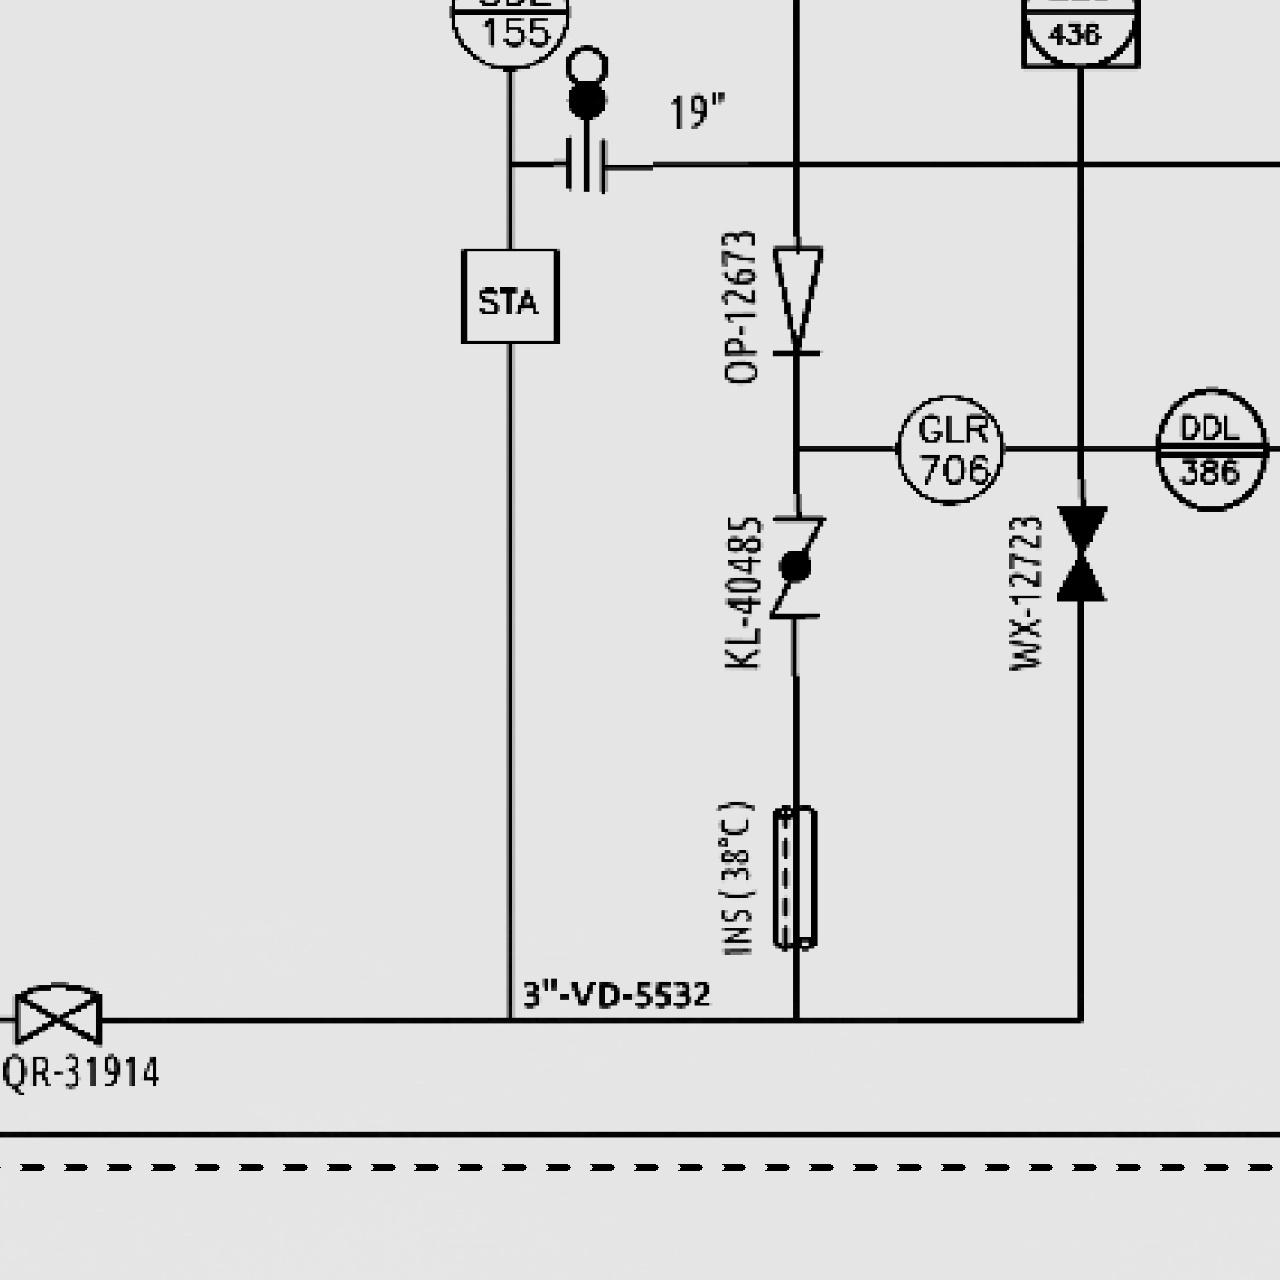Control-Panel: (1145, 383, 1276, 515)
